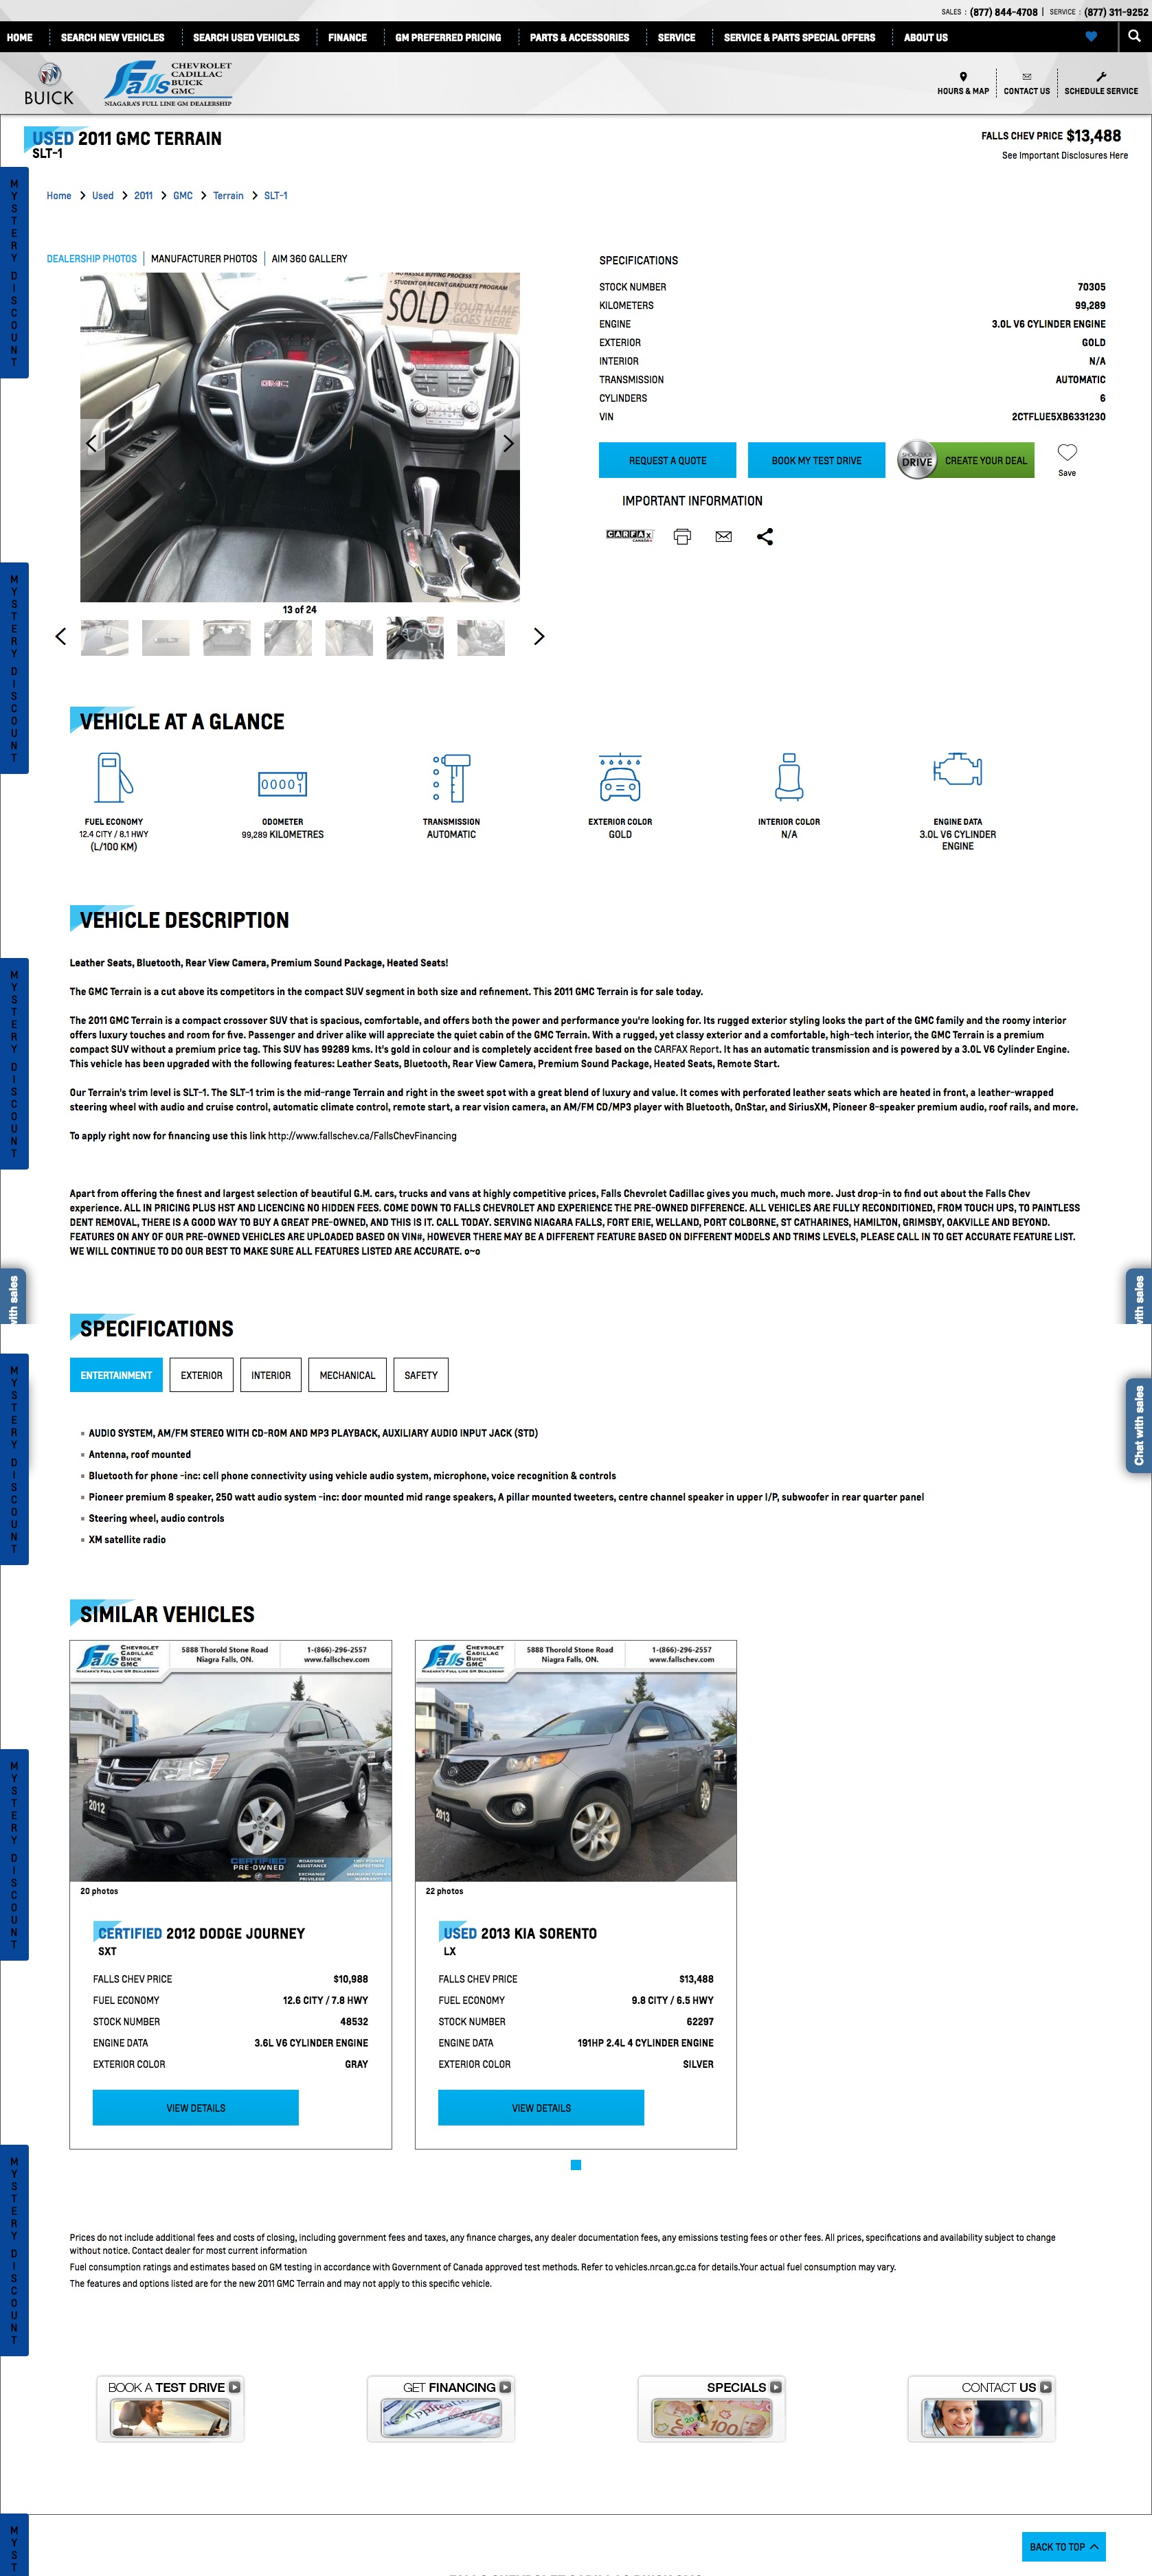car: (534, 628, 546, 646)
